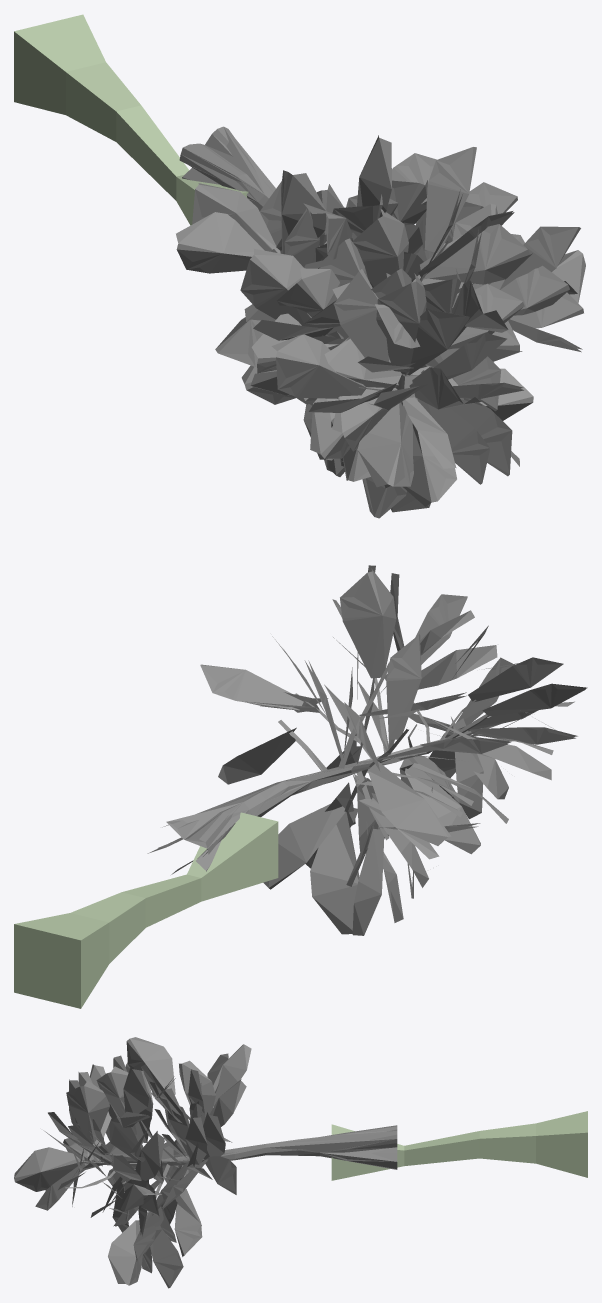
File: trop_CiabaTree_01.glb
3 renders of one model, top to bottom at view 1: azimuth 30°, elevation 25°; view 2: azimuth 150°, elevation 25°; view 3: azimuth 270°, elevation 25°, orthographic. The views are drawn at different scales.
Visible parts, largest first — view 1: geometry_0; view 2: geometry_0; view 3: geometry_0.
Boxes of the visible parts, x1,y1,x2,y2 form: geometry_0: (14, 14, 585, 518); geometry_0: (14, 565, 587, 1008); geometry_0: (14, 1037, 587, 1288).
Bounding box in the file's own units: 14.28 × 13.99 × 30.
